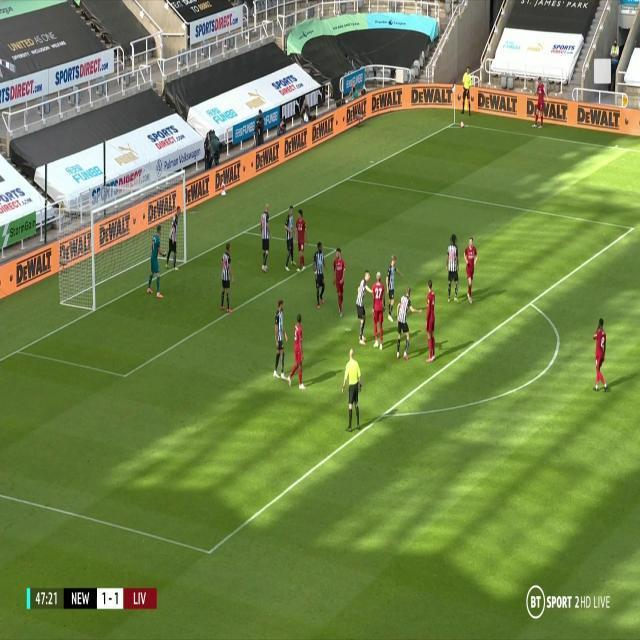ball: (460, 120, 465, 129)
goalkeeper: (146, 226, 165, 300)
player: (394, 286, 419, 363), (287, 314, 309, 392), (421, 278, 440, 365), (590, 316, 610, 397), (271, 297, 290, 381), (354, 269, 372, 346), (164, 203, 184, 272), (217, 242, 236, 314), (369, 272, 386, 350), (257, 199, 274, 274), (444, 233, 462, 303), (462, 235, 479, 305), (384, 253, 401, 322), (331, 247, 347, 320), (312, 240, 329, 308), (281, 202, 297, 271), (294, 208, 310, 274), (533, 76, 548, 128), (460, 64, 473, 120)
referee: (342, 348, 364, 436)
